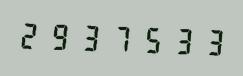five: (133, 20, 161, 57)
nine: (46, 17, 74, 54)
seven: (104, 19, 132, 56)
three: (75, 18, 103, 55), (162, 21, 190, 58), (191, 22, 219, 59)
two: (17, 16, 45, 53)
